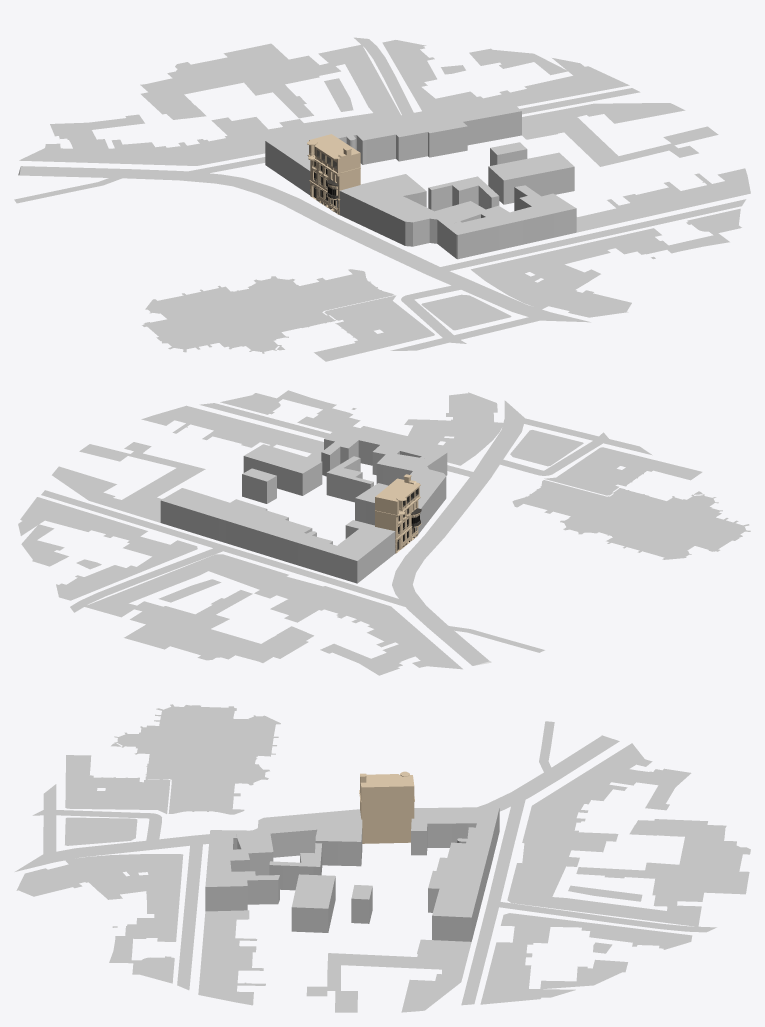
The model's file is bordeaux_hotel_fruges.glb.
The picture shows the model from 3 angles, top to bottom: view 1: azimuth 30°, elevation 25°; view 2: azimuth 150°, elevation 25°; view 3: azimuth 270°, elevation 25°; orthographic projection. The views are drawn at different scales.
Parts seen in each view (by area): view 1: city-bordeaux, route, Hotel-Fruges; view 2: city-bordeaux, route, Hotel-Fruges; view 3: city-bordeaux, route, Hotel-Fruges.
Part boxes in pixels (<box>): city-bordeaux: <box>19,40,750,361</box>; route: <box>14,37,746,350</box>; Hotel-Fruges: <box>307,134,360,214</box>; city-bordeaux: <box>18,390,750,675</box>; route: <box>41,400,652,665</box>; Hotel-Fruges: <box>374,474,421,553</box>; city-bordeaux: <box>16,704,750,1012</box>; route: <box>15,721,716,1005</box>; Hotel-Fruges: <box>359,771,414,843</box>.
Bounding box in the file's own units: 1.01 × 0.0965 × 1.02.
